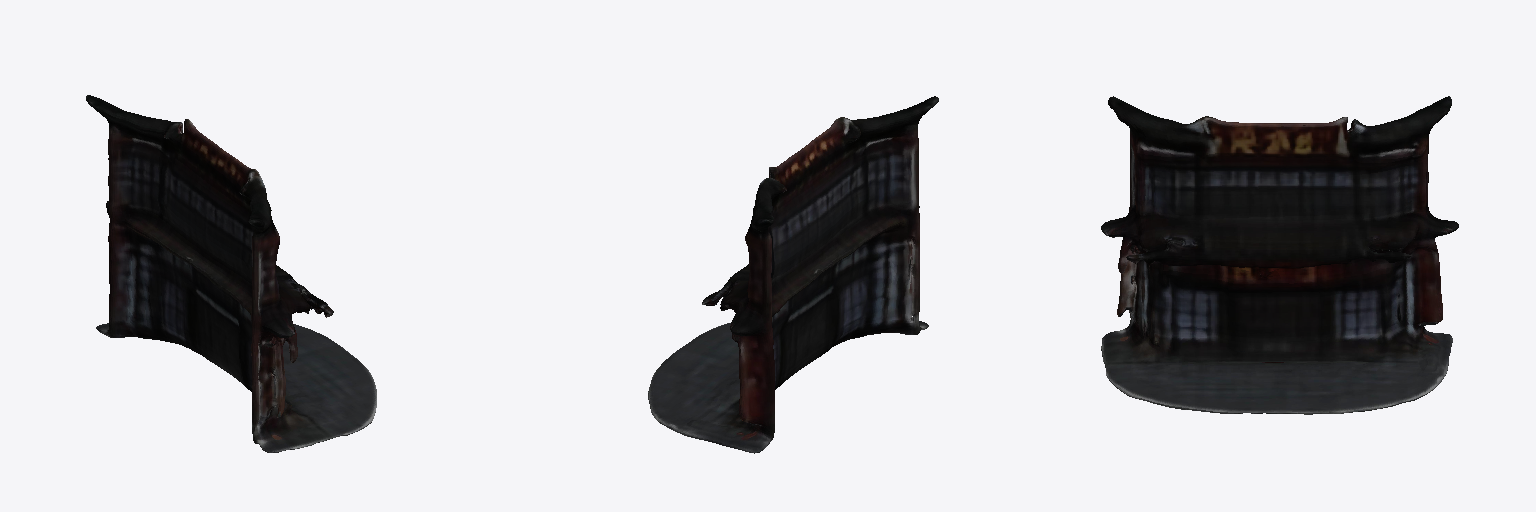
3 views of the same model, side by side, from view 1: azimuth 30°, elevation 25°; view 2: azimuth 150°, elevation 25°; view 3: azimuth 270°, elevation 25° (orthographic).
Parts seen in each view (by area): view 1: mesh; view 2: mesh; view 3: mesh.
Part boxes in pixels (x1,y1,x2,y2): mesh: (86,95,376,452); mesh: (648,96,938,453); mesh: (1101,96,1458,414).
Size of the model in its own units: 0.563 by 0.7445 by 0.9928.
Materials: 1 (1 with a texture image).